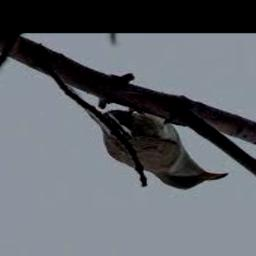Cuckoo: (96, 110, 226, 191)
